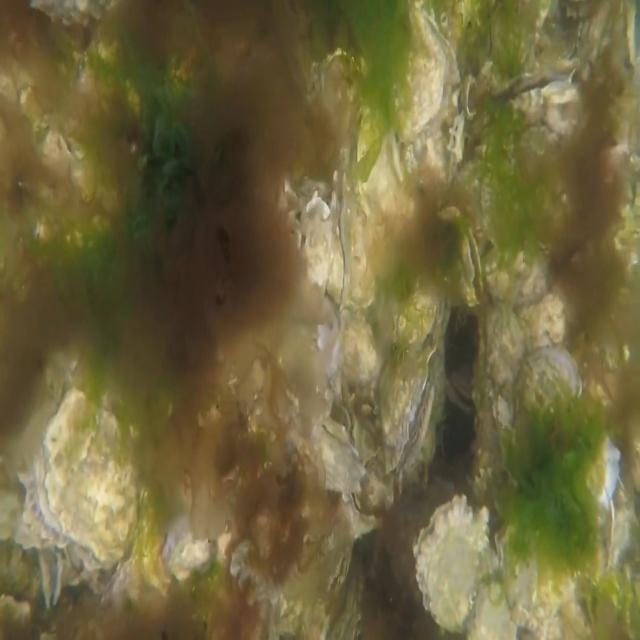Oyster-Closed: (494, 512, 577, 629), (381, 347, 438, 474), (290, 419, 366, 501), (332, 170, 351, 309), (337, 487, 382, 540)
Oyster-Indeterminate: (36, 387, 138, 569), (514, 346, 620, 508), (412, 492, 490, 631), (355, 101, 407, 271), (391, 0, 447, 143), (481, 299, 526, 473), (482, 236, 550, 308), (337, 311, 380, 422), (396, 283, 449, 366), (346, 186, 376, 316), (162, 517, 210, 582)
Oyster-Open: (489, 66, 589, 159), (296, 193, 334, 292), (614, 0, 640, 81), (459, 228, 485, 308), (323, 391, 353, 446)
